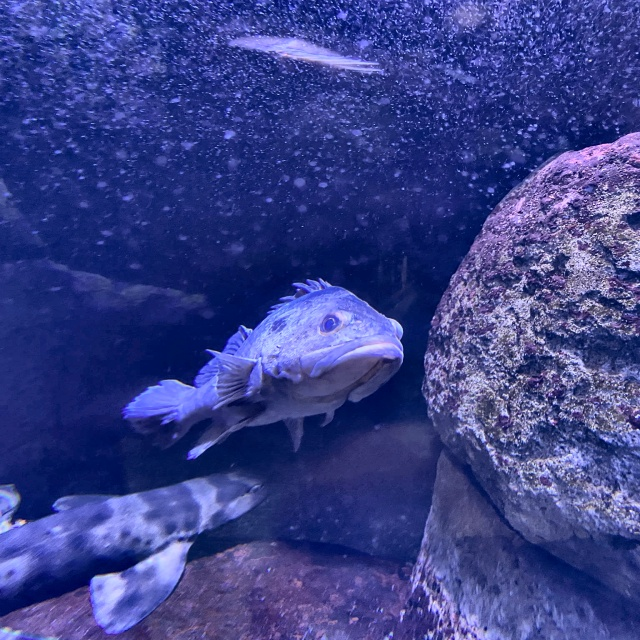fish: (122, 279, 403, 461), (0, 468, 271, 634)
